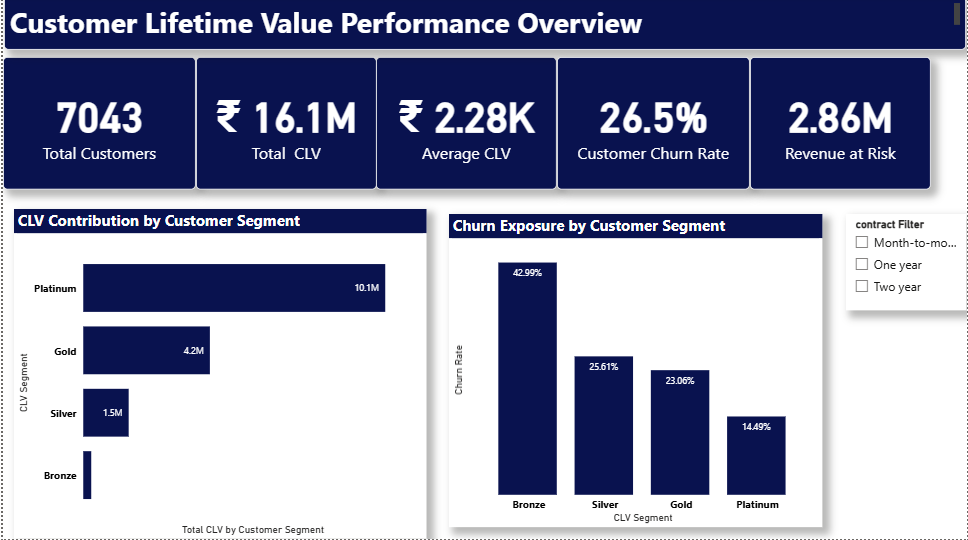

This screenshot's page, from the dashboard's own definition file:
{"tool":"powerbi","page":{"name":"CLV Overview","canvas":[1280,720],"ordinal":0},"visuals":[{"type":"card","fields":{"Values":["Count(customers_clean.customer_id)"]},"box":[0,80,256,176],"z":0},{"type":"card","fields":{"Values":["Sum(customer_clv_segmented.clv_value)"]},"box":[256,80,240,176],"z":1000},{"type":"card","fields":{"Values":["Avg(customer_clv_segmented.clv_value)"]},"box":[496,80,240,176],"z":2000},{"type":"clusteredBarChart","title":"CLV Contribution by Customer Segment","fields":{"Category":["customer_clv_segmented.clv_segment"],"Y":["Sum(customer_clv_segmented.clv_value)"]},"box":[14.8,282.3,548.1,438.2],"z":3000},{"type":"clusteredColumnChart","title":"Churn Exposure by Customer Segment","fields":{"Category":["customer_clv_segmented.clv_segment"],"Y":["Avg(customer_clv_segmented.churn_flag)"]},"box":[592,288,496,416],"z":4000},{"type":"slicer","fields":{"Values":["customer_clv_segmented.contract"]},"box":[1120,288,160,128],"z":5000},{"type":"textbox","box":[1.7,0,1278.3,70],"z":6000},{"type":"card","fields":{"Values":["churn reduction % 2.current churn rate"]},"box":[736,80,256,176],"z":7000},{"type":"card","fields":{"Values":["churn reduction % 2.Revenue_at_ risk"]},"box":[992,80,240,176],"z":8000}]}

Visuals, with their boxes in screenshot pixels (x1, y1, x2, y2), scaled from the page's 1280x720 canvas onto the 968x540 screenshot:
card - Count(customers_clean.customer_id): Rect(0, 60, 194, 192)
card - Sum(customer_clv_segmented.clv_value): Rect(194, 60, 375, 192)
card - Avg(customer_clv_segmented.clv_value): Rect(375, 60, 557, 192)
"CLV Contribution by Customer Segment" clusteredBarChart: Rect(11, 212, 426, 539)
"Churn Exposure by Customer Segment" clusteredColumnChart: Rect(448, 216, 823, 528)
slicer - customer_clv_segmented.contract: Rect(847, 216, 967, 312)
textbox: Rect(1, 0, 967, 52)
card - churn reduction % 2.current churn rate: Rect(557, 60, 750, 192)
card - churn reduction % 2.Revenue_at_ risk: Rect(750, 60, 932, 192)
